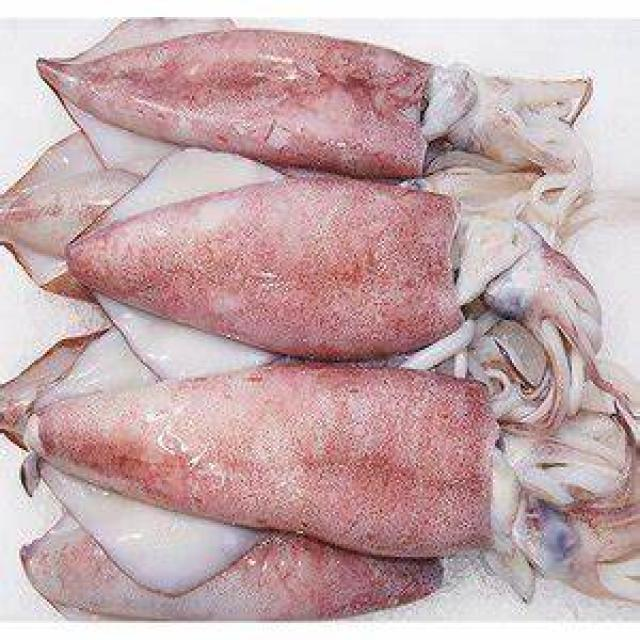SQUID: (24, 342, 627, 608), (21, 0, 609, 187), (61, 162, 615, 346)
